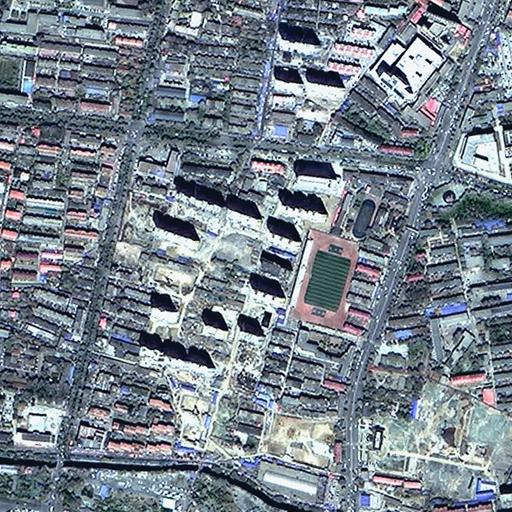school: (291, 226, 385, 338), (345, 166, 412, 245)
